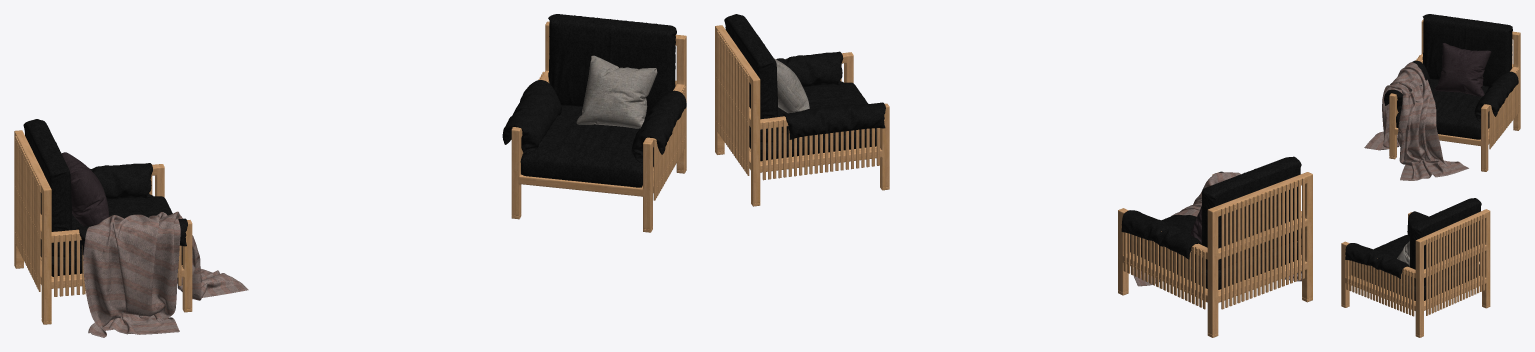
Rendered from fauteuils.glb.
3 renders of one model, left to right at view 1: azimuth 30°, elevation 25°; view 2: azimuth 150°, elevation 25°; view 3: azimuth 270°, elevation 25°, orthographic. The views are drawn at different scales.
Parts seen in each view (by area): view 1: obj.002, obj.005, obj.003, obj.004, obj.001, Chocofur_Textile_03.005, Chocofur_Textile_03.006; view 2: obj.003, obj.001, obj.002, obj.004, Chocofur_Textile_03.005, obj.005; view 3: obj.001, obj.004, obj.005, obj.002, obj.003, Chocofur_Textile_03.006, Chocofur_Textile_03.005.
Part boxes in pixels (x1,y1,x2,y2): obj.002: [502, 14, 686, 187]; obj.005: [83, 211, 248, 337]; obj.003: [14, 130, 192, 324]; obj.004: [23, 119, 187, 276]; obj.001: [511, 21, 686, 232]; Chocofur_Textile_03.005: [576, 55, 657, 128]; Chocofur_Textile_03.006: [61, 152, 109, 226]; obj.003: [1118, 172, 1312, 337]; obj.001: [715, 25, 889, 206]; obj.002: [724, 14, 885, 161]; obj.004: [1121, 156, 1301, 289]; Chocofur_Textile_03.005: [774, 58, 809, 113]; obj.005: [1133, 172, 1301, 286]; obj.001: [1341, 209, 1490, 337]; obj.004: [1384, 14, 1518, 139]; obj.005: [1364, 62, 1468, 180]; obj.002: [1345, 198, 1481, 300]; obj.003: [1389, 19, 1520, 171]; Chocofur_Textile_03.006: [1434, 43, 1491, 96]; Chocofur_Textile_03.005: [1397, 241, 1409, 266].
Size of the model in its own units: 3.94 by 0.8765 by 1.34.
Materials: 5 (5 with a texture image).
